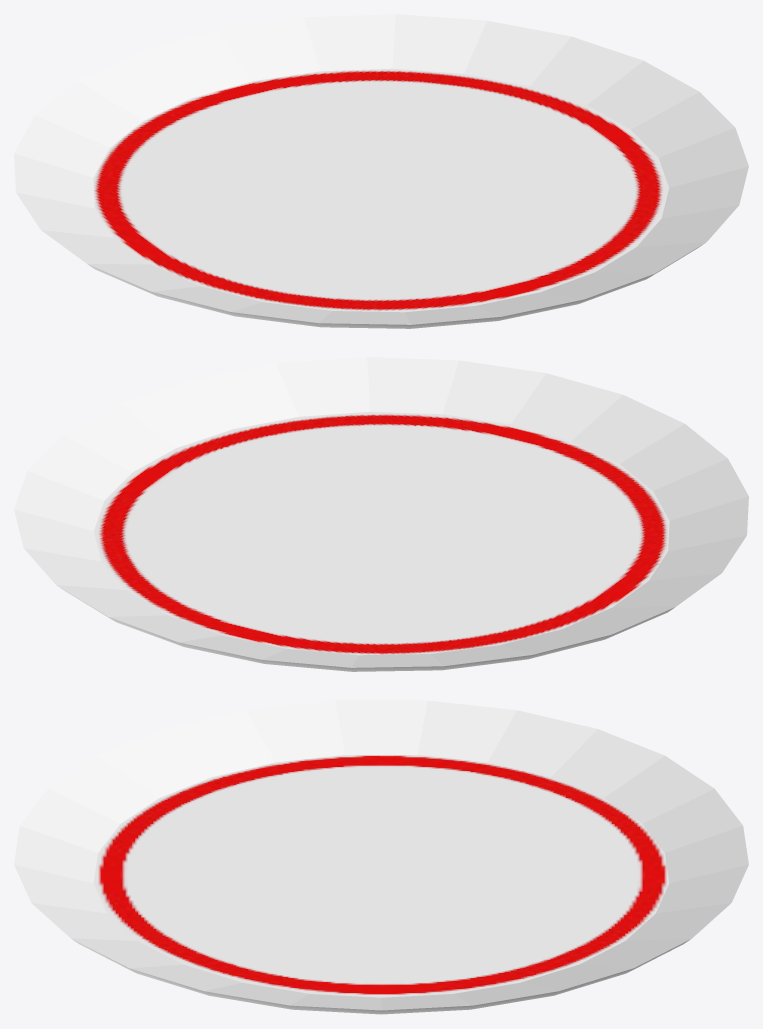
The model's file is Dish.FBX.
3 views of the same model, one above another, from view 1: azimuth 30°, elevation 25°; view 2: azimuth 150°, elevation 25°; view 3: azimuth 270°, elevation 25° (orthographic).
Parts seen in each view (by area): view 1: dish; view 2: dish; view 3: dish.
Boxes of the visible parts, x1,y1,x2,y2 form: dish: (14,14,748,328); dish: (14,357,748,671); dish: (14,700,748,1014).
Bounding box in the file's own units: 592 × 33.84 × 593.
Materials: 1 (1 with a texture image).
